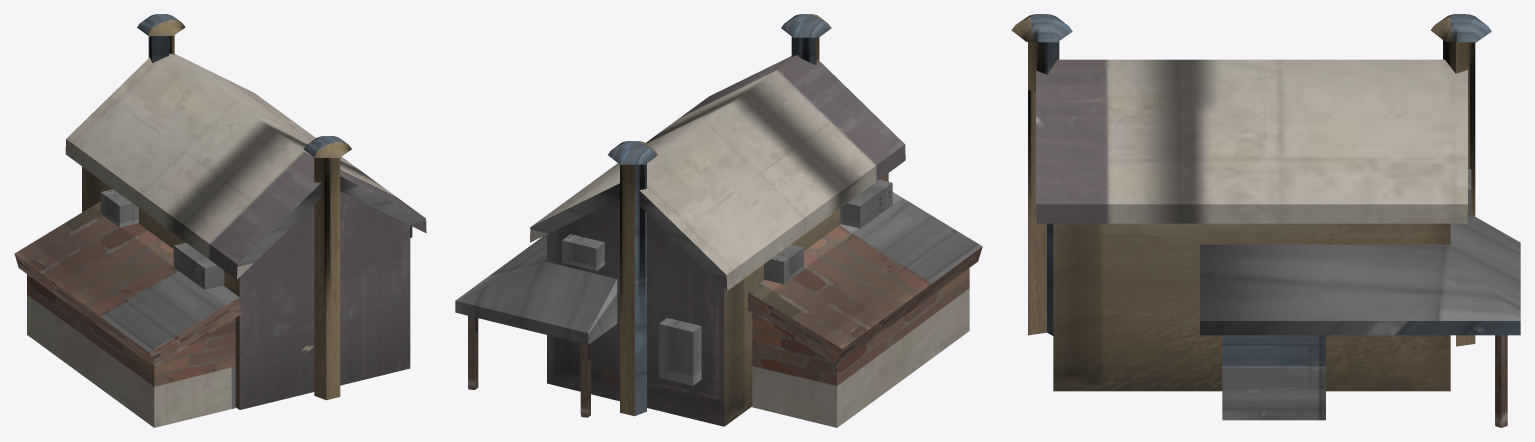
File: house.obj
3 renders of one model, left to right at view 1: azimuth 30°, elevation 25°; view 2: azimuth 150°, elevation 25°; view 3: azimuth 270°, elevation 25°, orthographic. The views are drawn at different scales.
Visible parts, largest first — view 1: factor_3; view 2: factor_3; view 3: factor_3.
Boxes of the visible parts, left/top/right/bottom form: factor_3: left=14, top=14, right=426, bottom=427; factor_3: left=455, top=14, right=982, bottom=427; factor_3: left=1011, top=14, right=1520, bottom=427.
Bounding box in the file's own units: 1507 × 1147 × 1645.
